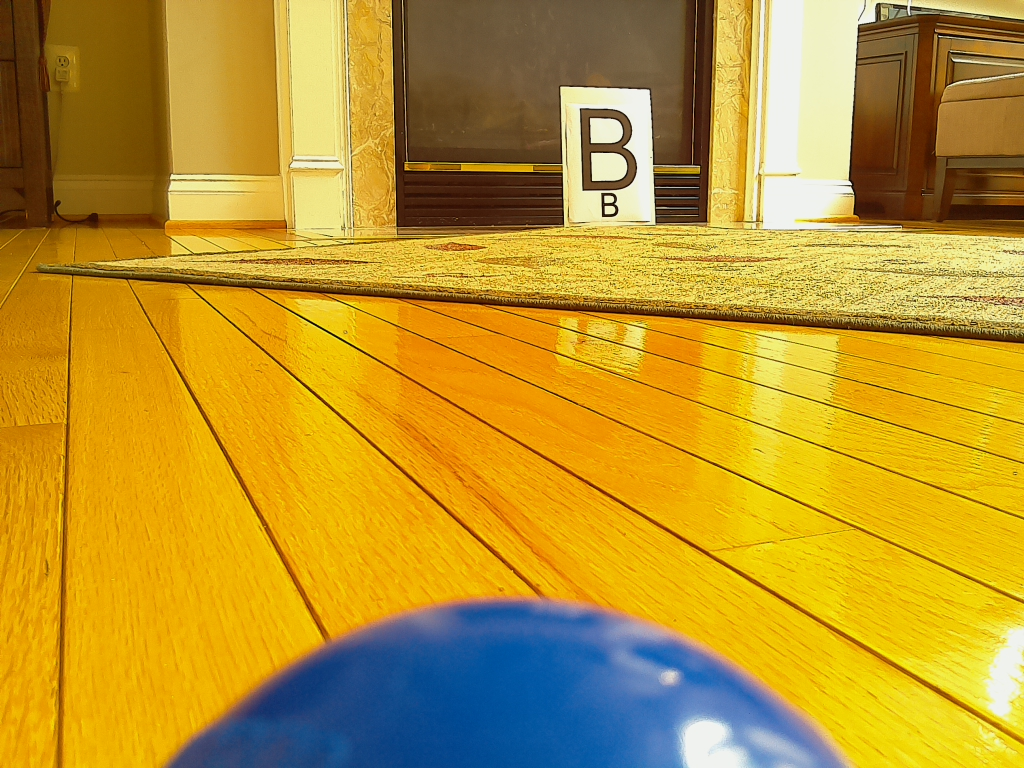letter: (580, 109, 637, 191)
